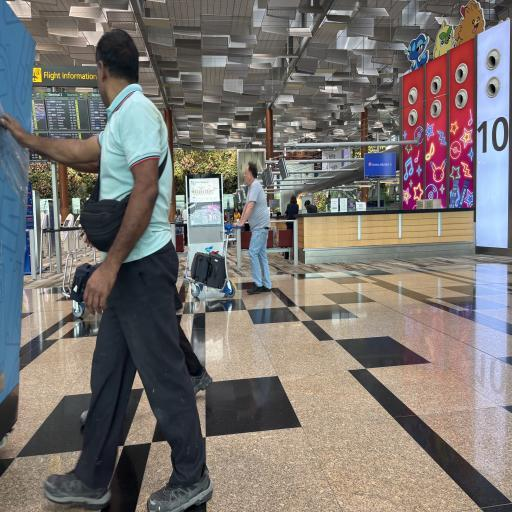person_with_luggage_left: (222, 162, 271, 294), (186, 252, 234, 296)
